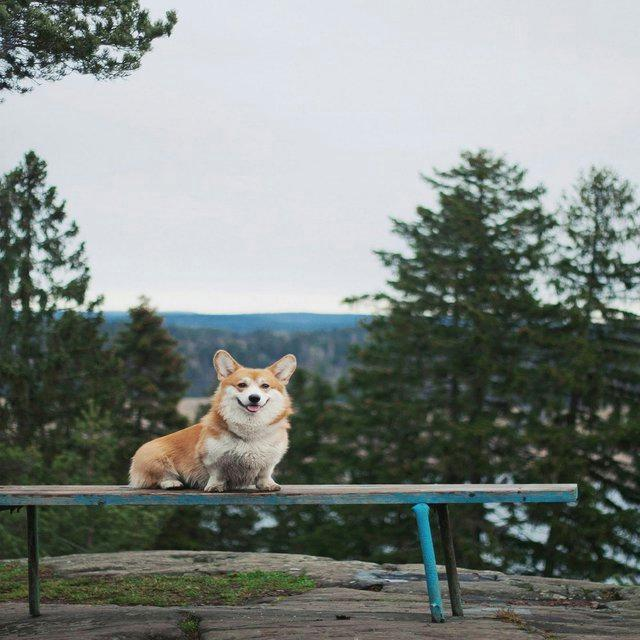corgi: (129, 348, 299, 492)
